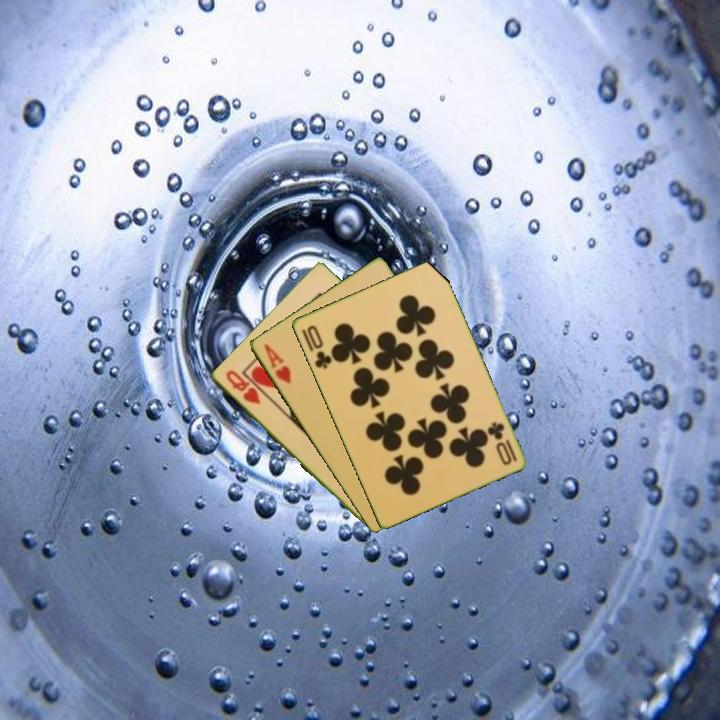10c: (484, 418, 519, 468), (303, 321, 335, 372)
Ah: (260, 340, 294, 387)
Qh: (222, 366, 263, 408)
